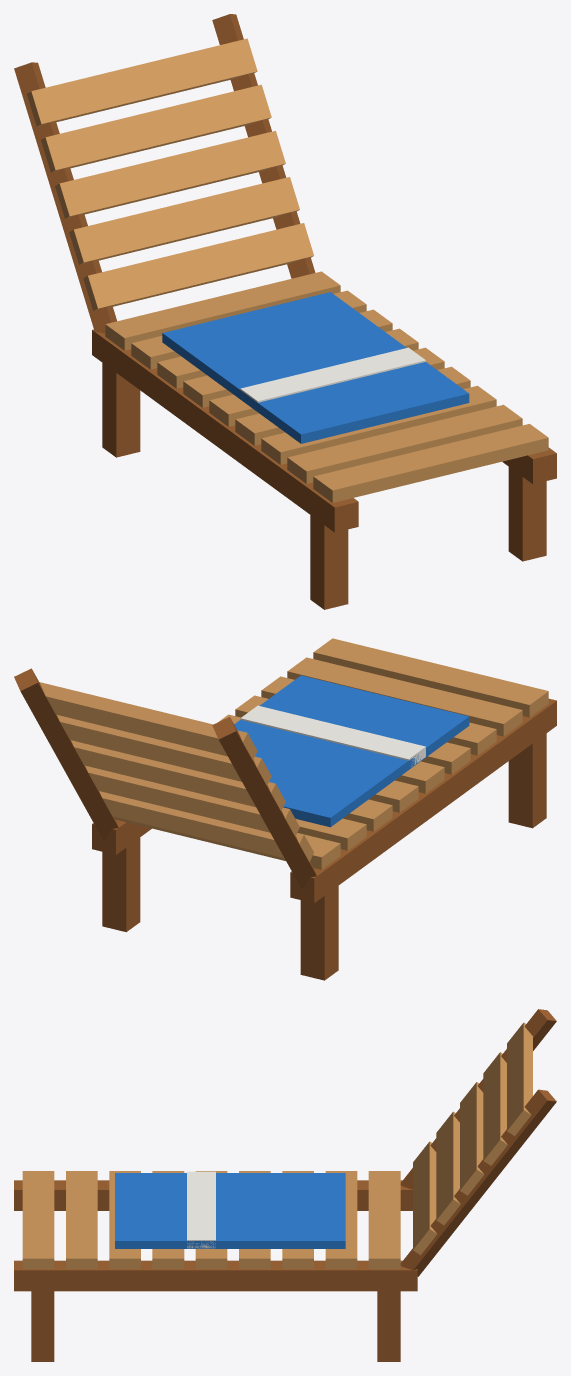
File: beach_chair.glb
The picture shows the model from 3 angles, top to bottom: view 1: azimuth 30°, elevation 25°; view 2: azimuth 150°, elevation 25°; view 3: azimuth 270°, elevation 25°; orthographic projection. The views are drawn at different scales.
Parts seen in each view (by area): view 1: beach_chair; view 2: beach_chair; view 3: beach_chair.
Boxes of the visible parts, bbox=[...] form: beach_chair: bbox=[14, 14, 556, 609]; beach_chair: bbox=[14, 638, 556, 980]; beach_chair: bbox=[14, 1009, 556, 1361].
Size of the model in its own units: 0.74 by 1.02 by 1.88.
